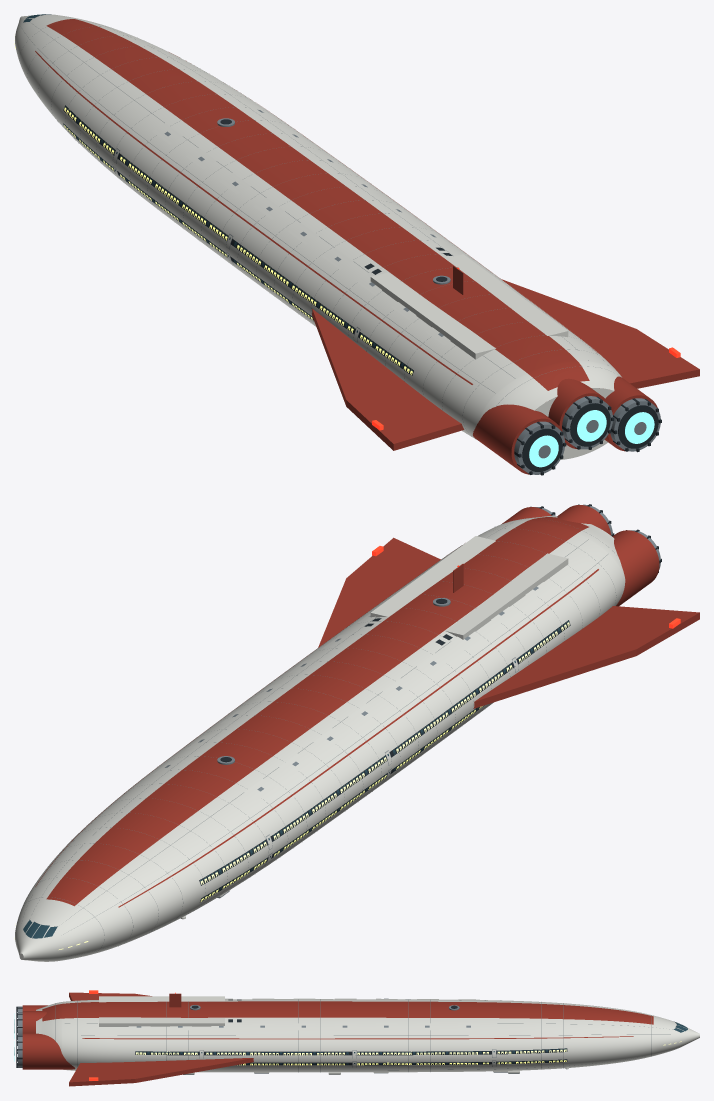
Rendered from double-decker.glb.
The picture shows the model from 3 angles, top to bottom: view 1: azimuth 30°, elevation 25°; view 2: azimuth 150°, elevation 25°; view 3: azimuth 270°, elevation 25°; orthographic projection. The views are drawn at different scales.
Parts seen in each view (by area): view 1: Continuous pressure hull, Swept red engine shoulder.001, Swept red engine shoulder, Aft service fairing.001, Red drive nacelle, Aft service fairing, Recessed passenger deck belt.003, Red drive nacelle.001, Sweeping red cabin shoulder stripe.001, Red drive nacelle.002, Recessed passenger deck belt.002, Dark exhaust well.001 (+2 smaller); view 2: Continuous pressure hull, Swept red engine shoulder.001, Swept red engine shoulder, Aft service fairing.001, Red drive nacelle, Aft service fairing, Recessed passenger deck belt.003, Sweeping red cabin shoulder stripe.001, Recessed passenger deck belt.002, Red drive nacelle.001; view 3: Continuous pressure hull, Swept red engine shoulder, Red drive nacelle.002, Recessed passenger deck belt.001, Aft service fairing, Sweeping red cabin shoulder stripe, Recessed passenger deck belt, Aft service fairing.001, Swept red engine shoulder.001, Red drive nacelle.001, Longitudinal panel seam, Communication blade (+3 smaller).
Part boxes in pixels (box(x1,y1,x2,y2)): Continuous pressure hull: box(15, 14, 621, 439); Swept red engine shoulder.001: box(312, 309, 464, 450); Swept red engine shoulder: box(502, 279, 699, 388); Aft service fairing.001: box(370, 272, 495, 359); Red drive nacelle: box(473, 404, 561, 474); Aft service fairing: box(445, 254, 568, 337); Recessed passenger deck belt.003: box(63, 105, 413, 375); Red drive nacelle.001: box(548, 378, 609, 449); Sweeping red cabin shoulder stripe.001: box(35, 51, 472, 384); Red drive nacelle.002: box(604, 376, 657, 451); Recessed passenger deck belt.002: box(63, 123, 313, 320); Dark exhaust well.001: box(570, 403, 610, 446); Continuous pressure hull: box(15, 516, 625, 961); Swept red engine shoulder.001: box(473, 606, 699, 708); Swept red engine shoulder: box(318, 537, 440, 647); Aft service fairing.001: box(445, 553, 568, 639); Red drive nacelle: box(612, 530, 659, 606); Aft service fairing: box(370, 536, 495, 617); Recessed passenger deck belt.003: box(199, 620, 570, 885); Sweeping red cabin shoulder stripe.001: box(118, 569, 598, 907); Recessed passenger deck belt.002: box(200, 705, 484, 902); Red drive nacelle.001: box(557, 505, 611, 535); Continuous pressure hull: box(36, 999, 699, 1072); Swept red engine shoulder: box(69, 1058, 253, 1086); Red drive nacelle.002: box(22, 1033, 75, 1069); Recessed passenger deck belt.001: box(135, 1048, 567, 1055); Aft service fairing: box(99, 1017, 224, 1026); Sweeping red cabin shoulder stripe: box(82, 1036, 633, 1039); Recessed passenger deck belt: box(238, 1059, 567, 1065); Aft service fairing.001: box(99, 996, 224, 1002); Swept red engine shoulder.001: box(69, 992, 151, 1000); Red drive nacelle.001: box(22, 1011, 46, 1033); Longitudinal panel seam: box(81, 1034, 670, 1035); Communication blade: box(169, 993, 181, 1007).
Size of the model in its own units: 57.6 by 21.5 by 186.
